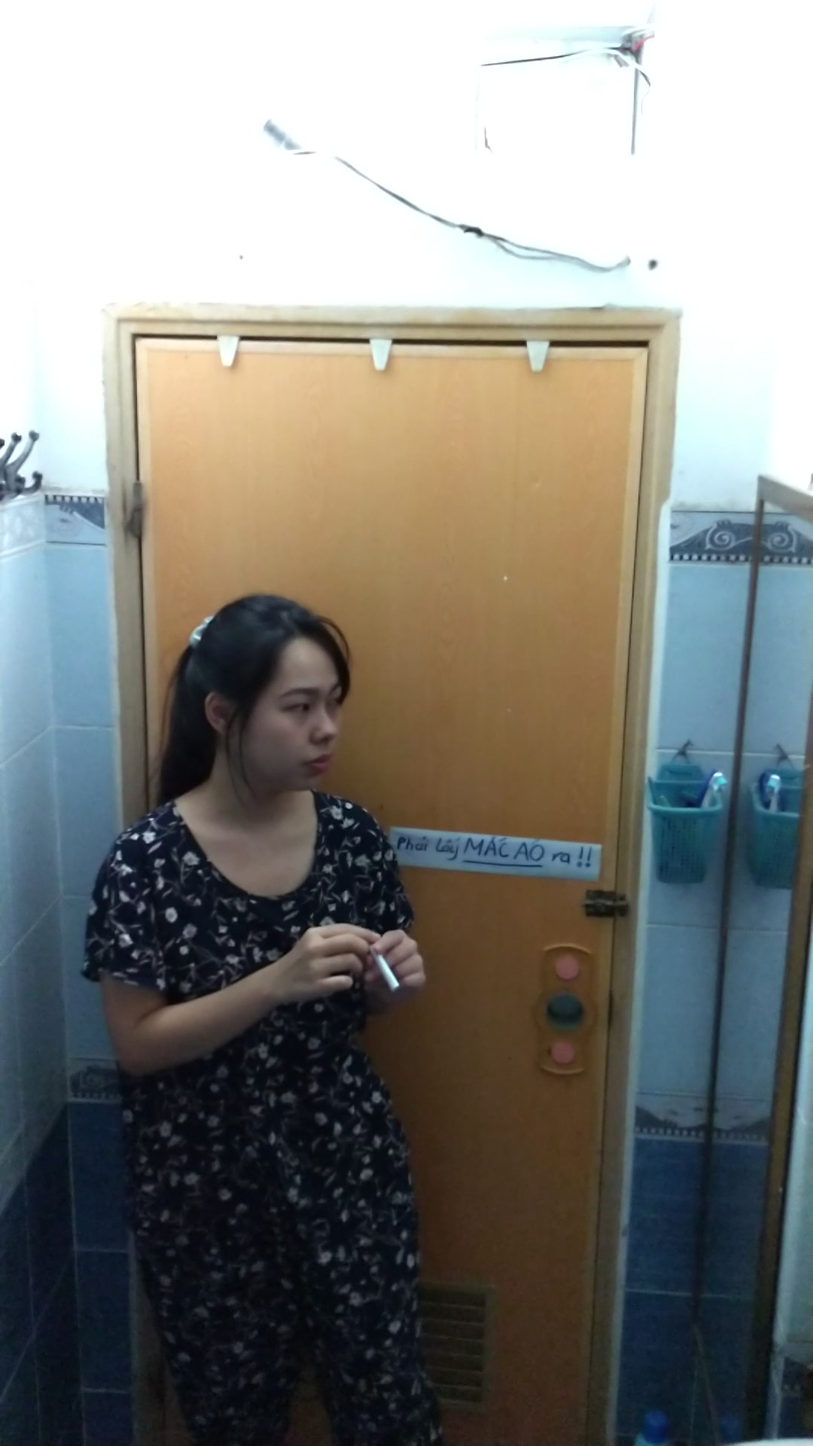cigarette: (370, 951, 402, 995)
person: (81, 586, 441, 1446)
